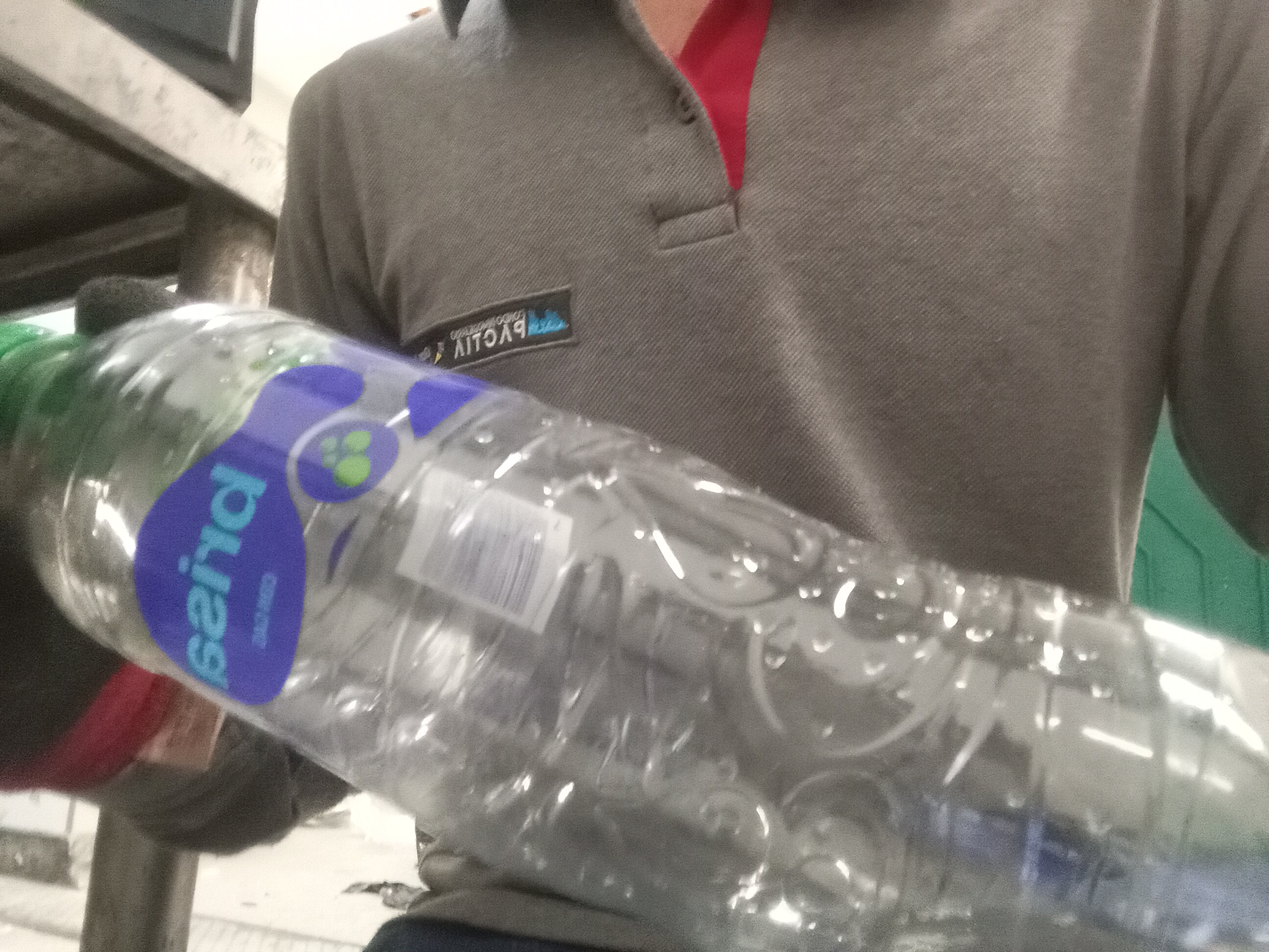Plastico: (1, 301, 1269, 952)
